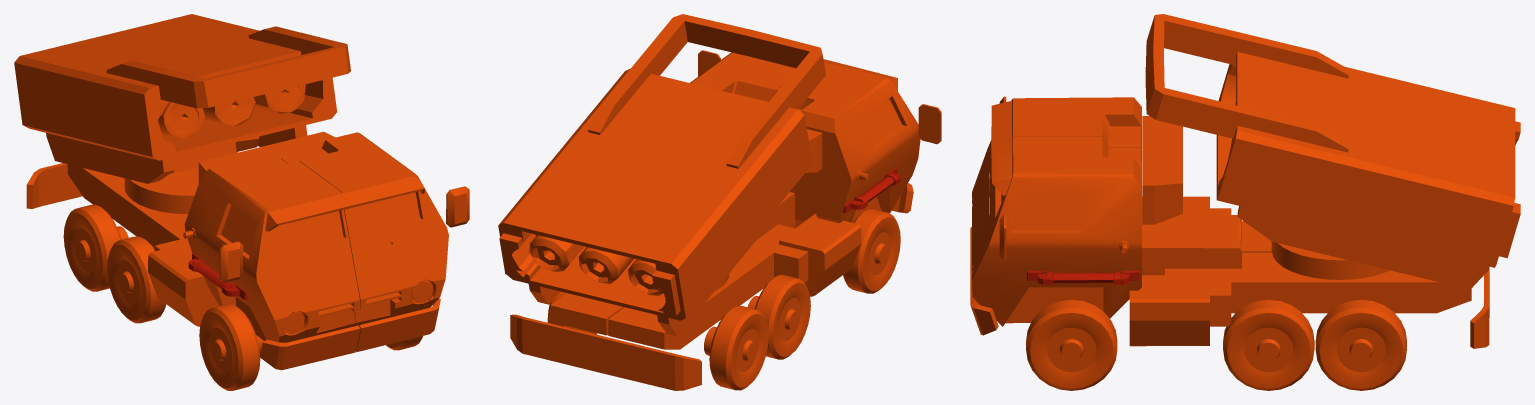
File: WbRocketsLowpoly.fbx
The picture shows the model from 3 angles, left to right: view 1: azimuth 30°, elevation 25°; view 2: azimuth 150°, elevation 25°; view 3: azimuth 270°, elevation 25°; orthographic projection. The views are drawn at different scales.
Visible parts, largest first — view 1: Body, BarrelRocketLauncher, WheelSteeringGroupA.001, Wheel.061, Wheel.048, TurretMain.004; view 2: BarrelRocketLauncher, Body, Wheel.061, Wheel.048, WheelSteeringGroupA.001; view 3: Body, BarrelRocketLauncher, WheelSteeringGroupA, Wheel.060, Wheel.029, TurretMain.004.
Boxes of the visible parts, bbox=[...] form: Body: bbox=[26, 131, 469, 370]; BarrelRocketLauncher: bbox=[14, 14, 350, 183]; WheelSteeringGroupA.001: bbox=[199, 304, 263, 390]; Wheel.061: bbox=[63, 204, 128, 291]; Wheel.048: bbox=[107, 236, 166, 323]; TurretMain.004: bbox=[124, 152, 237, 213]; BarrelRocketLauncher: bbox=[498, 14, 825, 335]; Body: bbox=[510, 50, 941, 390]; Wheel.061: bbox=[704, 306, 768, 390]; Wheel.048: bbox=[747, 275, 810, 359]; WheelSteeringGroupA.001: bbox=[843, 209, 900, 293]; Body: bbox=[970, 96, 1489, 348]; BarrelRocketLauncher: bbox=[1145, 14, 1520, 289]; WheelSteeringGroupA: bbox=[1026, 299, 1117, 390]; Wheel.060: bbox=[1315, 299, 1406, 390]; Wheel.029: bbox=[1223, 299, 1314, 390]; TurretMain.004: bbox=[1271, 241, 1389, 279].
Bounding box in the file's own units: 0.551 × 0.5786 × 0.987.
